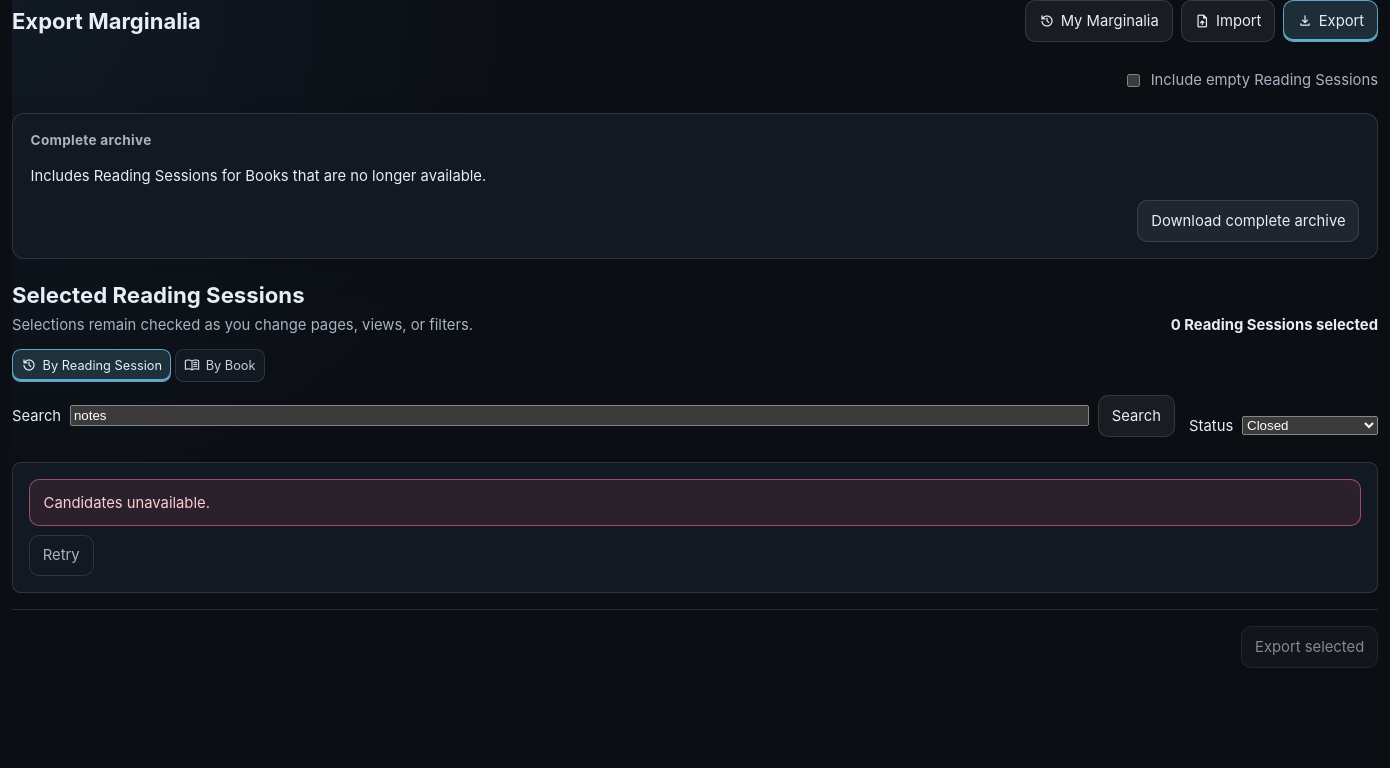
MarginaliaExportOrchestrator › loads URL-backed export candidates and retries a recoverable failure
Check: the message "Candidates unavailable." is shown, box 29,479 -> 1361,526
Click the button "Retry" at (61, 556), box 29,535 -> 94,576
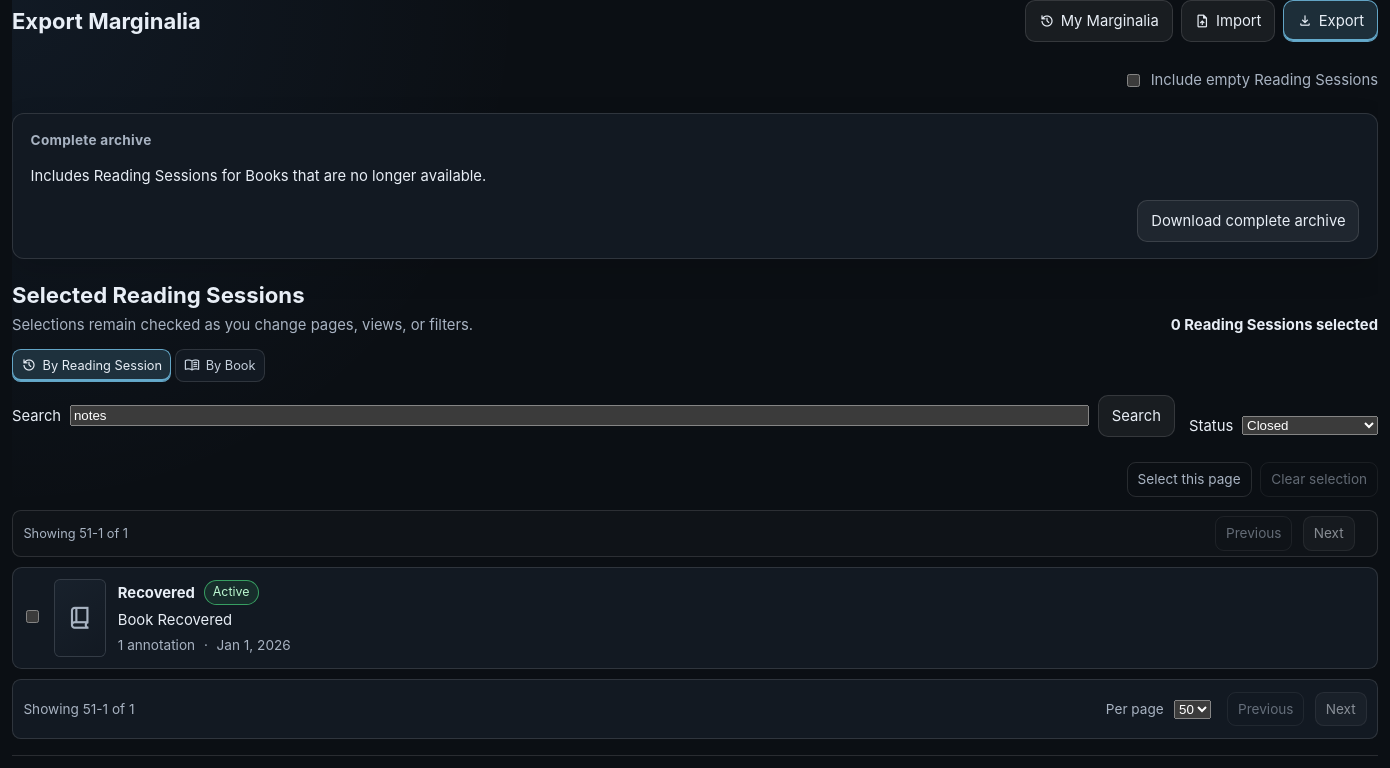
Check: the checkbox named "Select Recovered for Book Recovered" is shown, box 26,610 -> 39,623
